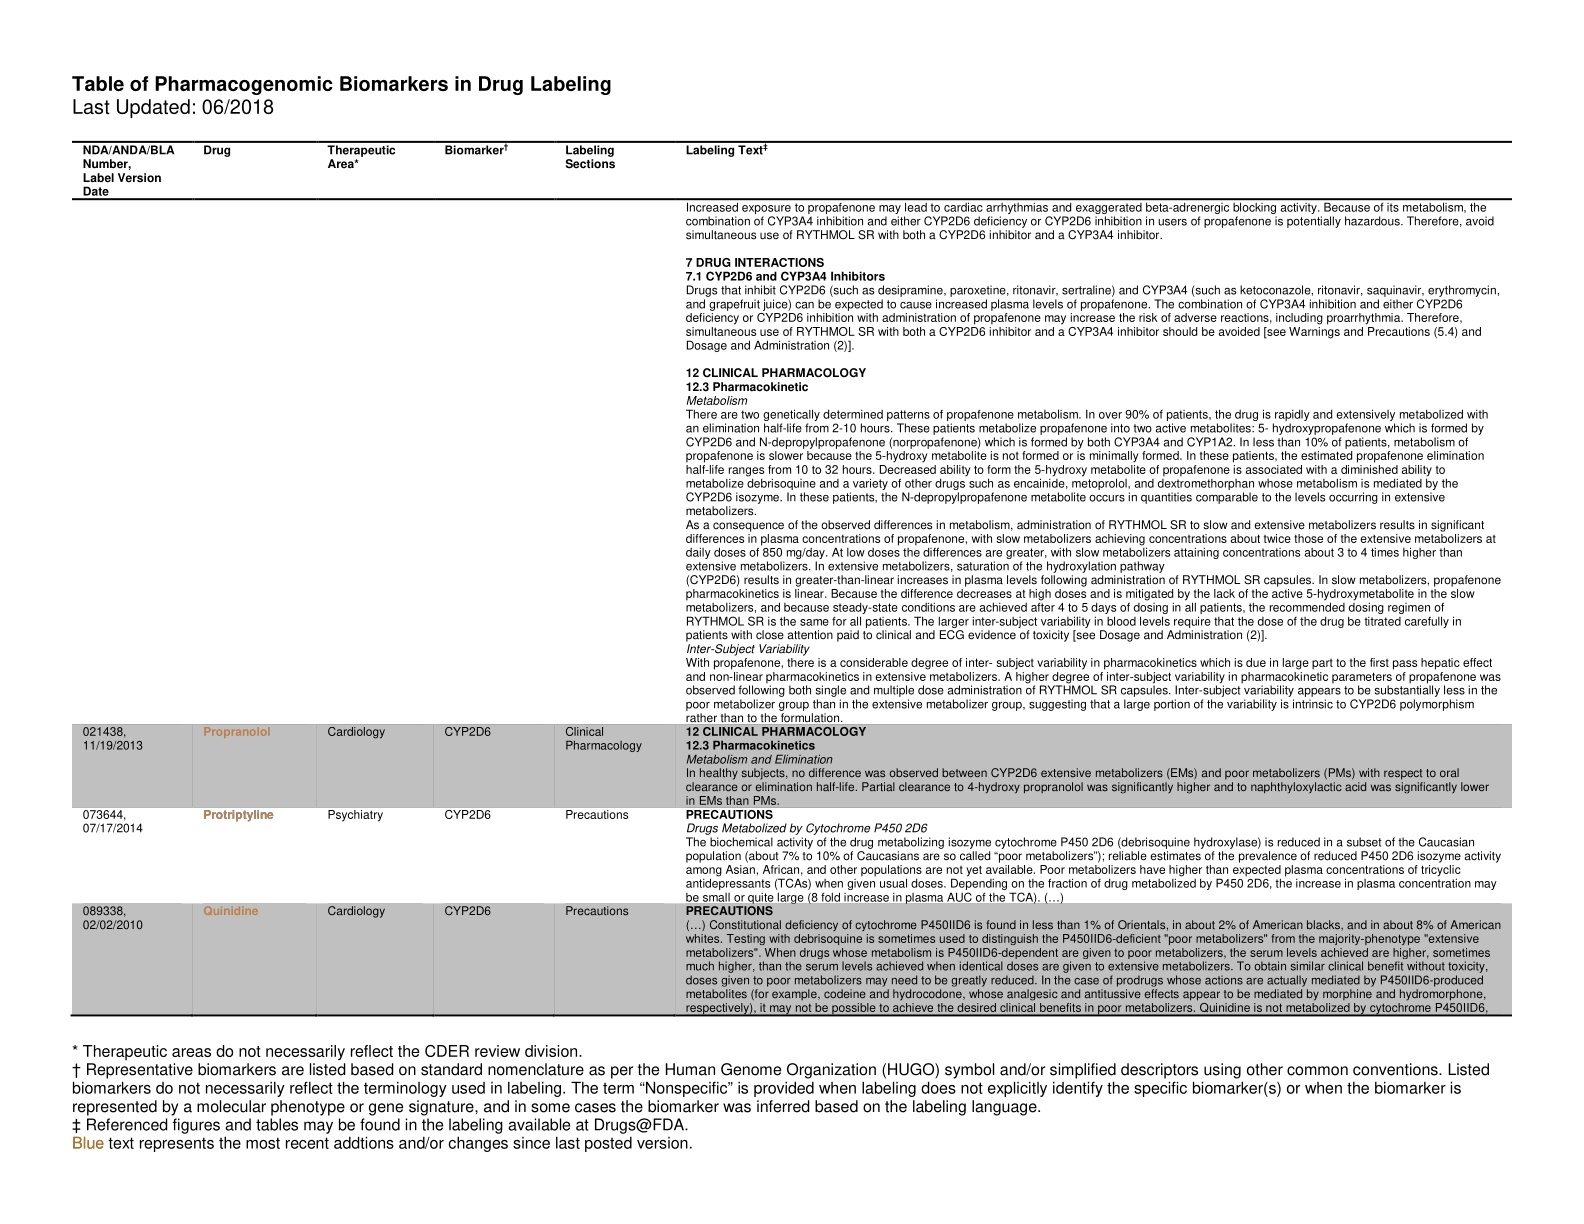partial_lined: (71, 140, 1513, 1017)
